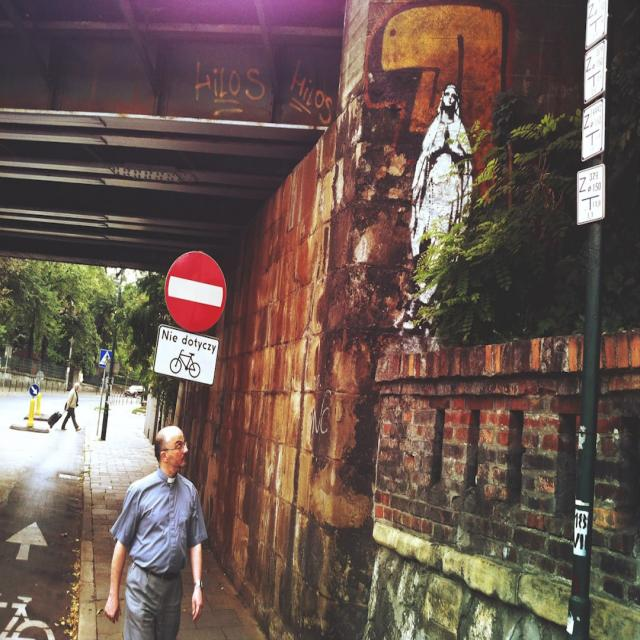no entry: (164, 250, 226, 332)
